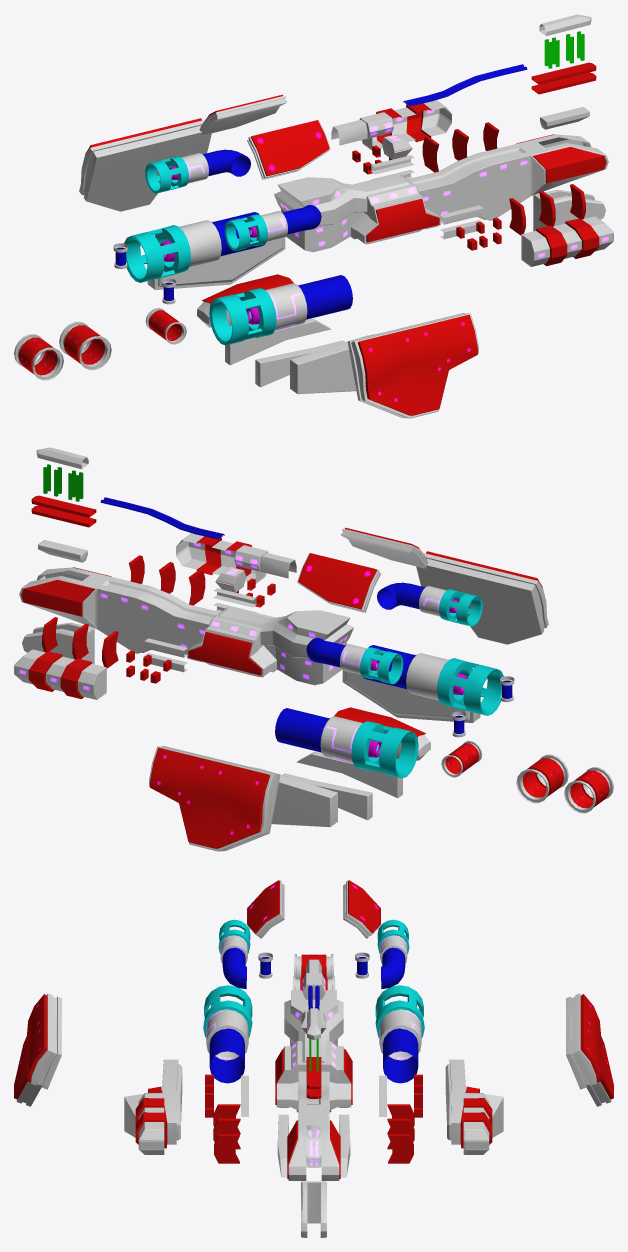
Rendered from SK_CorruptionFrigate_Exploded.fbx.
3 renders of one model, top to bottom at view 1: azimuth 30°, elevation 25°; view 2: azimuth 150°, elevation 25°; view 3: azimuth 270°, elevation 25°, orthographic.
Visible parts, largest first — view 1: Cube, Engines; view 2: Cube, Engines; view 3: Cube, Engines.
Part boxes in pixels (x1,y1,x2,y2): Cube: (79,14,613,418); Engines: (14,149,352,380); Cube: (14,447,548,851); Engines: (275,582,613,813); Cube: (14,880,613,1237); Engines: (203,919,424,1083).
Size of the model in its own units: 62716 by 56337 by 28826.
